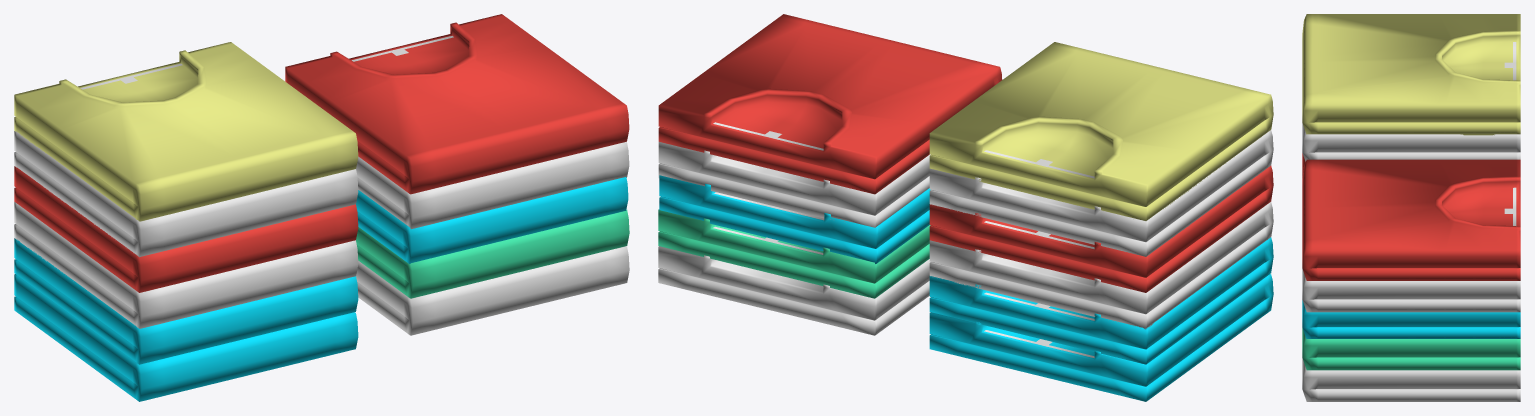
The model's file is Shirts.fbx.
The picture shows the model from 3 angles, left to right: view 1: azimuth 30°, elevation 25°; view 2: azimuth 150°, elevation 25°; view 3: azimuth 270°, elevation 25°; orthographic projection. The views are drawn at different scales.
Parts seen in each view (by area): view 1: FoldedShirt.006, FoldedShirt.011, FoldedShirt.001, FoldedShirt.004, FoldedShirt.003, FoldedShirt.002, FoldedShirt.005, FoldedShirt.007, FoldedShirt.008, FoldedShirt.010, FoldedShirt.009; view 2: FoldedShirt.006, FoldedShirt.011, FoldedShirt.001, FoldedShirt.004, FoldedShirt.003, FoldedShirt.002, FoldedShirt.005, FoldedShirt.007, FoldedShirt.008, FoldedShirt.010, FoldedShirt.009; view 3: FoldedShirt.011, FoldedShirt.006, FoldedShirt.007, FoldedShirt.010, FoldedShirt.008, FoldedShirt.009, FoldedShirt.005.
Boxes of the visible parts, x1=… form: FoldedShirt.006: x1=14, y1=42, x2=358, y2=221; FoldedShirt.011: x1=285, y1=14, x2=629, y2=194; FoldedShirt.001: x1=14, y1=274, x2=358, y2=401; FoldedShirt.004: x1=14, y1=166, x2=358, y2=292; FoldedShirt.003: x1=14, y1=202, x2=358, y2=328; FoldedShirt.002: x1=14, y1=238, x2=358, y2=364; FoldedShirt.005: x1=14, y1=131, x2=358, y2=257; FoldedShirt.007: x1=356, y1=246, x2=629, y2=335; FoldedShirt.008: x1=356, y1=209, x2=629, y2=298; FoldedShirt.010: x1=356, y1=142, x2=629, y2=229; FoldedShirt.009: x1=356, y1=177, x2=628, y2=263; FoldedShirt.006: x1=929, y1=42, x2=1273, y2=220; FoldedShirt.011: x1=658, y1=14, x2=1002, y2=194; FoldedShirt.001: x1=929, y1=274, x2=1273, y2=401; FoldedShirt.004: x1=929, y1=165, x2=1273, y2=292; FoldedShirt.003: x1=929, y1=202, x2=1273, y2=329; FoldedShirt.002: x1=929, y1=237, x2=1273, y2=364; FoldedShirt.005: x1=929, y1=130, x2=1273, y2=256; FoldedShirt.007: x1=658, y1=246, x2=930, y2=335; FoldedShirt.008: x1=658, y1=209, x2=930, y2=298; FoldedShirt.010: x1=658, y1=142, x2=930, y2=227; FoldedShirt.009: x1=659, y1=175, x2=930, y2=263; FoldedShirt.011: x1=1302, y1=159, x2=1520, y2=280; FoldedShirt.006: x1=1302, y1=14, x2=1520, y2=135; FoldedShirt.007: x1=1302, y1=358, x2=1520, y2=401; FoldedShirt.010: x1=1302, y1=269, x2=1520, y2=312; FoldedShirt.008: x1=1302, y1=328, x2=1520, y2=370; FoldedShirt.009: x1=1302, y1=300, x2=1520, y2=338; FoldedShirt.005: x1=1302, y1=123, x2=1520, y2=161.
Bounding box in the file's own units: 85.59 × 36.64 × 38.75.
